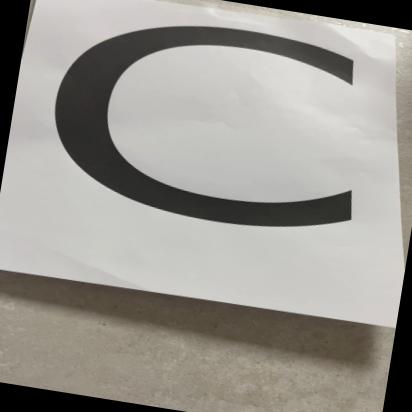seat: (6, 0, 412, 325)
